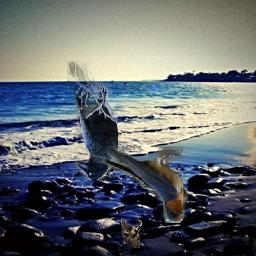Crow: (68, 62, 119, 181)
Sparrow: (122, 218, 141, 248)
Swallow: (88, 147, 188, 224)
